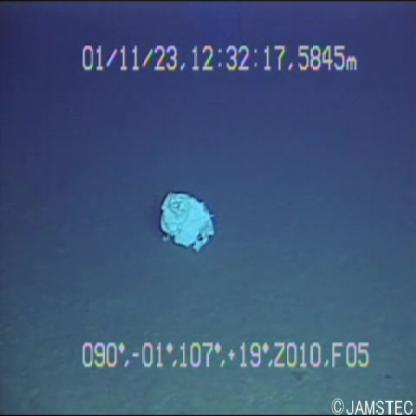Rác: (149, 181, 226, 260)
